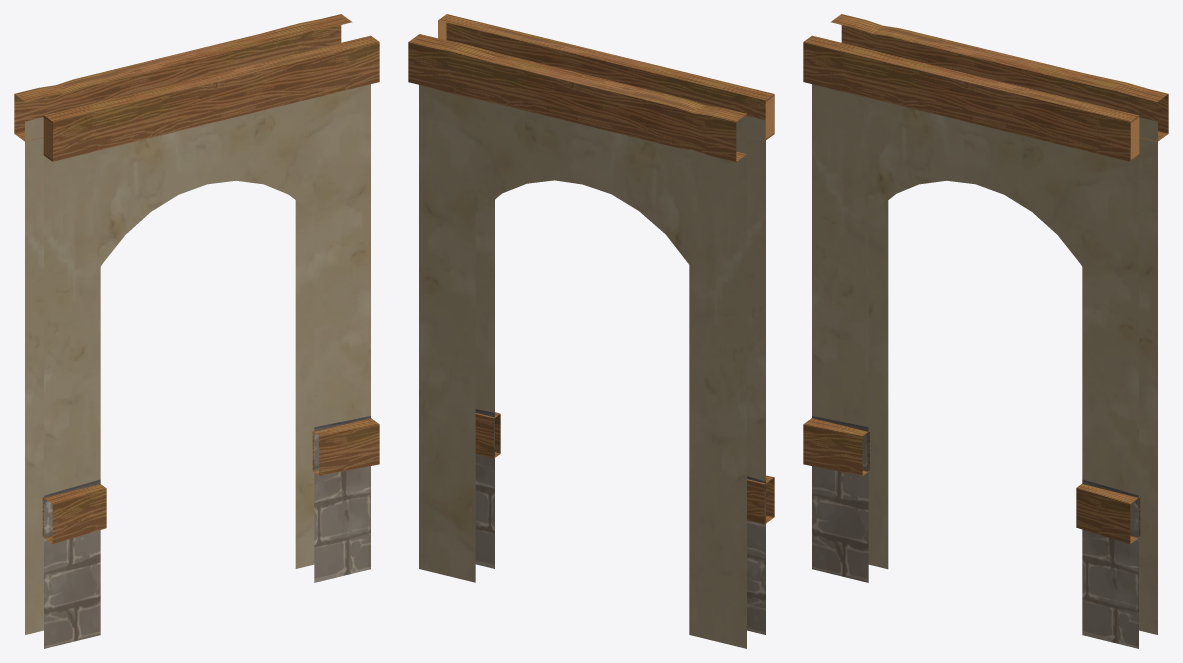
File: wall_plaster_door.glb
3 renders of one model, left to right at view 1: azimuth 30°, elevation 25°; view 2: azimuth 150°, elevation 25°; view 3: azimuth 330°, elevation 25°, orthographic.
Size of the model in its own units: 2 by 3.12 by 0.4064.
Materials: 3 (3 with a texture image).
